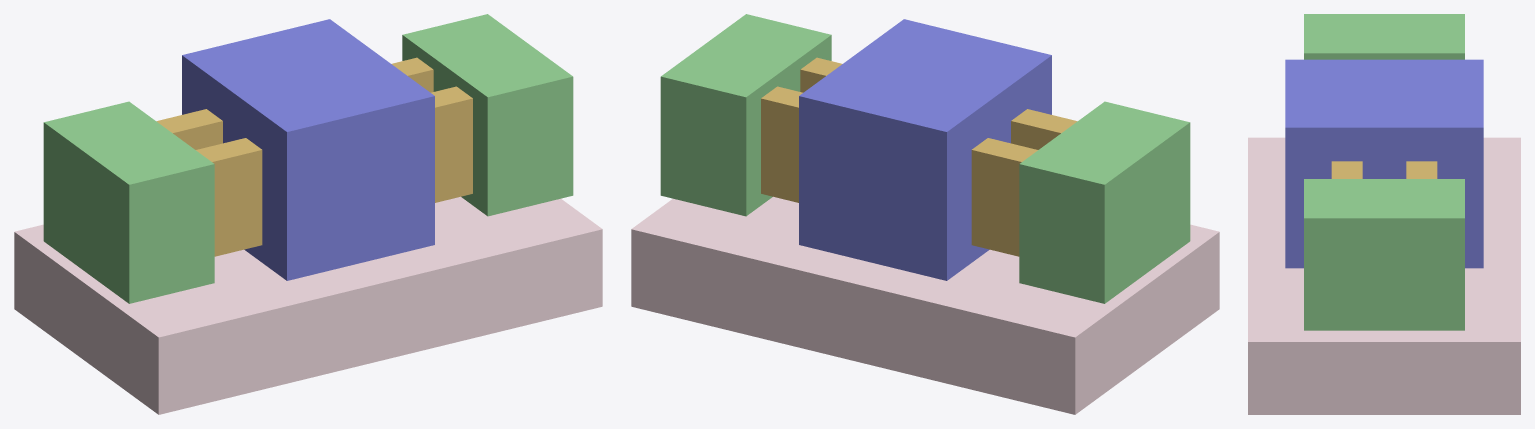
File: simp_fin.glb
The picture shows the model from 3 angles, left to right: view 1: azimuth 30°, elevation 25°; view 2: azimuth 150°, elevation 25°; view 3: azimuth 270°, elevation 25°; orthographic projection. The views are drawn at different scales.
Visible parts, largest first — view 1: sub, gate, src0, drn0, ch1, ch0; view 2: sub, gate, src0, drn0, ch0, ch1; view 3: sub, gate, drn0, src0, ch0, ch1.
Part boxes in pixels (bbox=[...]): sub: bbox=[14, 196, 602, 414]; gate: bbox=[182, 19, 434, 280]; src0: bbox=[43, 101, 214, 303]; drn0: bbox=[402, 14, 573, 216]; ch1: bbox=[196, 86, 472, 256]; ch0: bbox=[156, 57, 433, 149]; sub: bbox=[631, 196, 1219, 414]; gate: bbox=[799, 19, 1051, 280]; src0: bbox=[1019, 101, 1190, 303]; drn0: bbox=[660, 14, 831, 216]; ch0: bbox=[761, 86, 1037, 256]; ch1: bbox=[800, 57, 1077, 149]; sub: bbox=[1248, 137, 1520, 414]; gate: bbox=[1285, 59, 1483, 268]; drn0: bbox=[1304, 179, 1464, 330]; src0: bbox=[1304, 14, 1464, 59]; ch0: bbox=[1406, 161, 1437, 178]; ch1: bbox=[1331, 161, 1362, 178].
Size of the model in its own units: 156 by 78 by 88.
